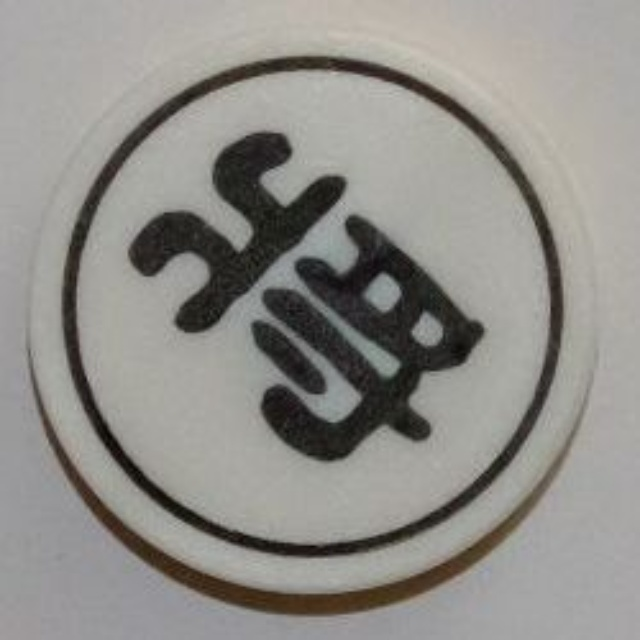black_tuong: (26, 27, 610, 601)
